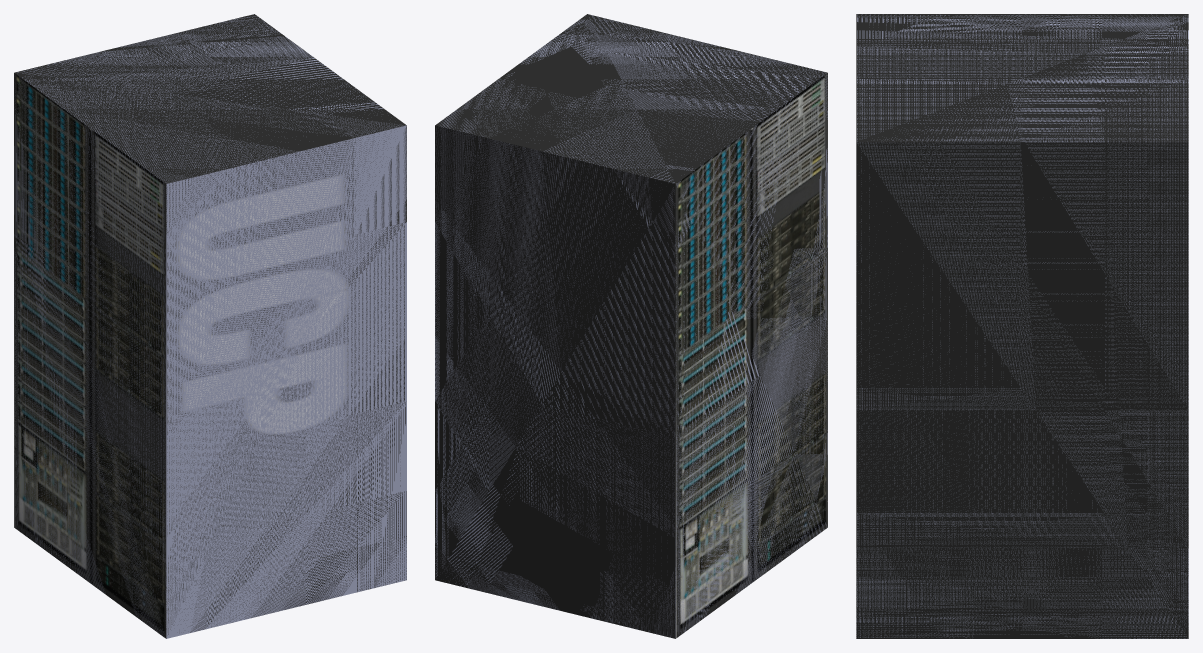
3 views of the same model, side by side, from view 1: azimuth 30°, elevation 25°; view 2: azimuth 150°, elevation 25°; view 3: azimuth 270°, elevation 25° (orthographic). The views are drawn at different scales.
Visible parts, largest first — view 1: HDS_Cloud_in_Box_v1.0 (×2); view 2: HDS_Cloud_in_Box_v1.0 (×2); view 3: HDS_Cloud_in_Box_v1.0.
Boxes of the visible parts, x1,y1,x2,y2 form: HDS_Cloud_in_Box_v1.0 (×2): (14, 14, 406, 638); HDS_Cloud_in_Box_v1.0 (×2): (435, 14, 827, 638); HDS_Cloud_in_Box_v1.0: (856, 14, 1188, 638).
Bounding box in the file's own units: 43.37 × 47.52 × 78.39.
4 materials, 2 textured.
